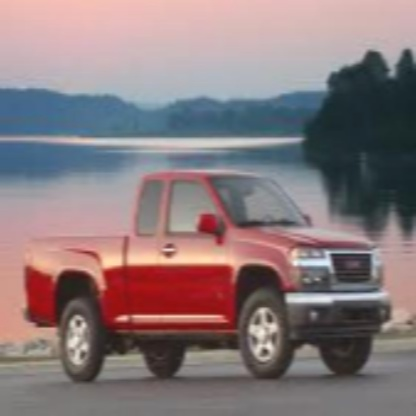Vehicle: (20, 137, 400, 386)
